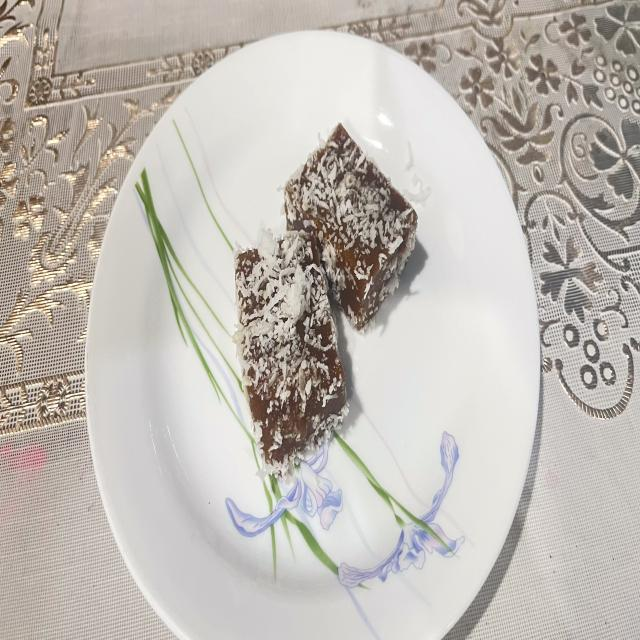kaswi: (234, 229, 348, 478), (285, 124, 418, 329)
